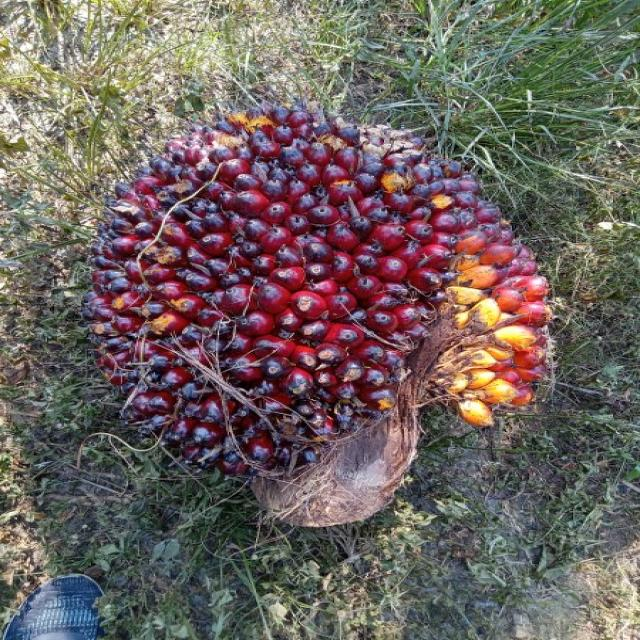fraksi 1: (74, 100, 564, 478)
